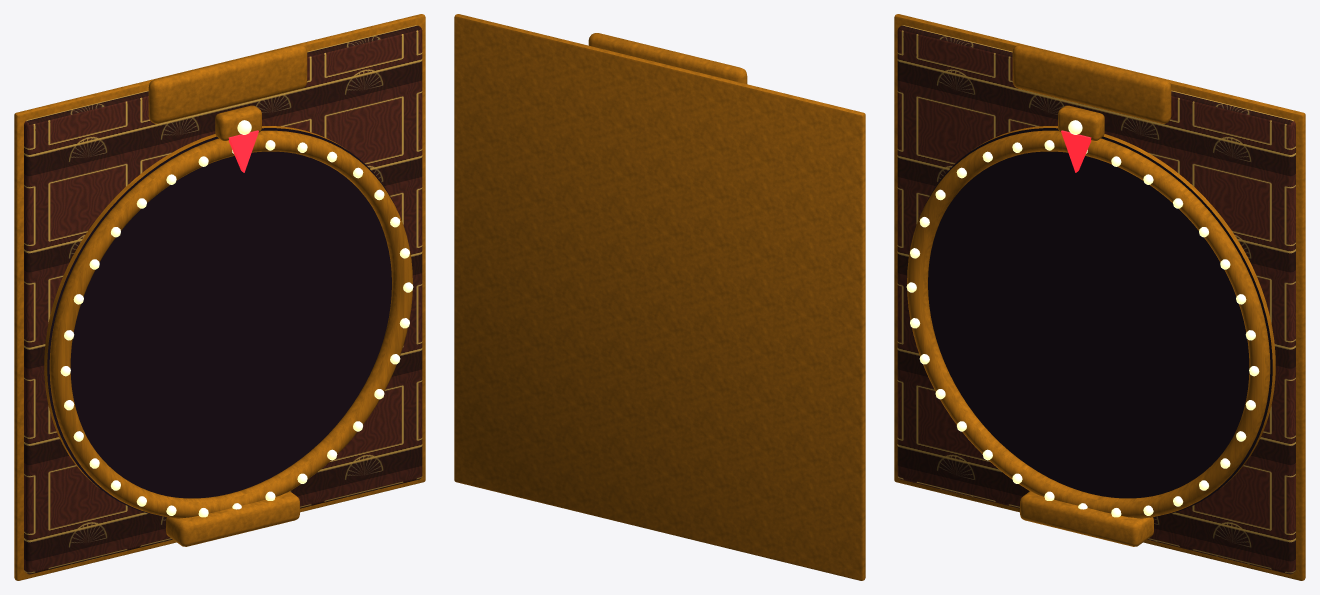
The model's file is wheel-frame.glb.
The picture shows the model from 3 angles, left to right: view 1: azimuth 30°, elevation 25°; view 2: azimuth 150°, elevation 25°; view 3: azimuth 330°, elevation 25°; orthographic projection.
Visible parts, largest first — view 1: wheel-frame; view 2: wheel-frame; view 3: wheel-frame.
Part boxes in pixels (left/top/right/bottom): wheel-frame: left=14, top=14, right=425, bottom=580; wheel-frame: left=454, top=14, right=865, bottom=580; wheel-frame: left=894, top=14, right=1305, bottom=580.
Size of the model in its own units: 8.9 by 9.85 by 1.13.
Materials: 5 (2 with a texture image).
